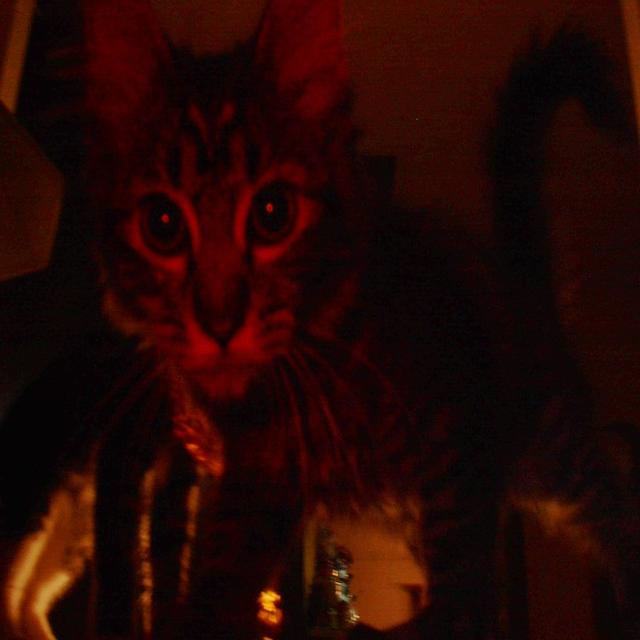Cat: (81, 0, 636, 640)
